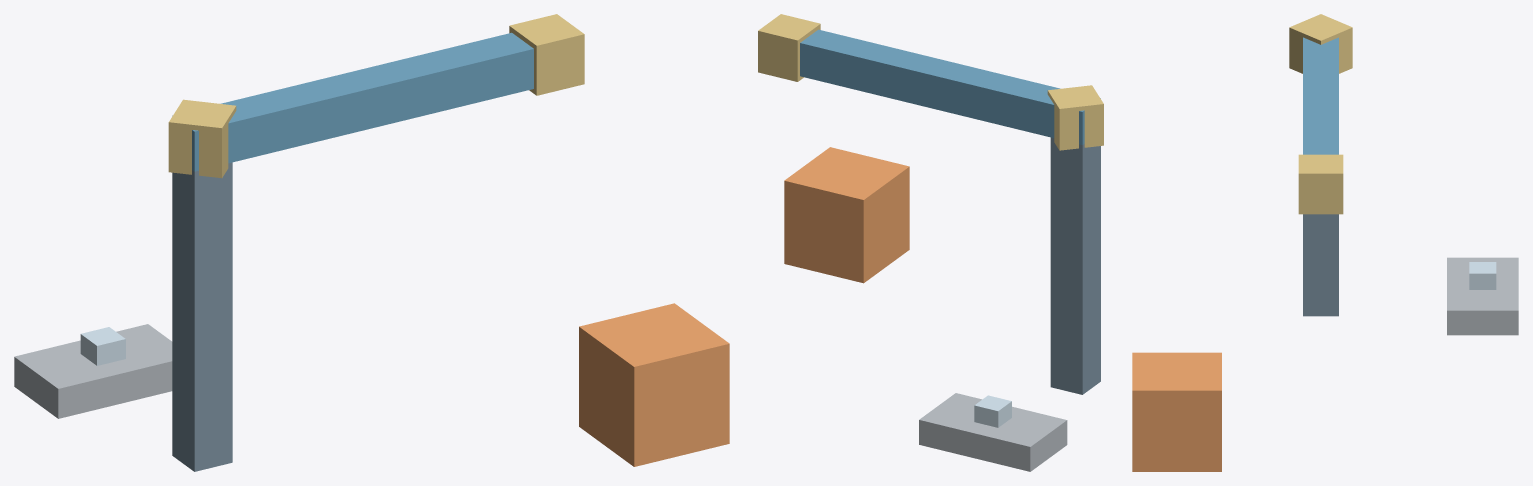
The model's file is contrato-exemplo.glb.
3 views of the same model, side by side, from view 1: azimuth 30°, elevation 25°; view 2: azimuth 150°, elevation 25°; view 3: azimuth 270°, elevation 25° (orthographic). The views are drawn at different scales.
Visible parts, largest first — view 1: Cubo de 100 mm, Viga V01, Pilar P01, Base Composta — Corpo, Conector Bloco A [2], Conector Bloco A [1], Base Composta — Pino; view 2: Cubo de 100 mm, Viga V01, Pilar P01, Base Composta — Corpo, Conector Bloco A [2], Conector Bloco A [1], Base Composta — Pino; view 3: Cubo de 100 mm, Base Composta — Corpo, Viga V01, Pilar P01, Conector Bloco A [1], Conector Bloco A [2], Base Composta — Pino.
Part boxes in pixels (bbox=[...]): Cubo de 100 mm: bbox=[579, 303, 729, 466]; Viga V01: bbox=[172, 32, 533, 171]; Pilar P01: bbox=[172, 162, 232, 471]; Base Composta — Corpo: bbox=[14, 324, 172, 418]; Conector Bloco A [2]: bbox=[168, 99, 236, 178]; Conector Bloco A [1]: bbox=[509, 14, 584, 95]; Base Composta — Pino: bbox=[80, 327, 125, 365]; Cubo de 100 mm: bbox=[784, 147, 909, 283]; Viga V01: bbox=[800, 29, 1100, 144]; Pilar P01: bbox=[1050, 137, 1100, 394]; Base Composta — Corpo: bbox=[919, 393, 1067, 471]; Conector Bloco A [2]: bbox=[1047, 85, 1103, 150]; Conector Bloco A [1]: bbox=[758, 14, 820, 81]; Base Composta — Pino: bbox=[974, 395, 1011, 427]; Cubo de 100 mm: bbox=[1132, 352, 1221, 471]; Base Composta — Corpo: bbox=[1447, 257, 1518, 335]; Viga V01: bbox=[1303, 37, 1338, 154]; Pilar P01: bbox=[1303, 214, 1338, 316]; Conector Bloco A [1]: bbox=[1298, 154, 1343, 214]; Conector Bloco A [2]: bbox=[1289, 14, 1352, 73]; Base Composta — Pino: bbox=[1469, 262, 1496, 289].
Size of the model in its own units: 0.5 by 0.345 by 0.43.
